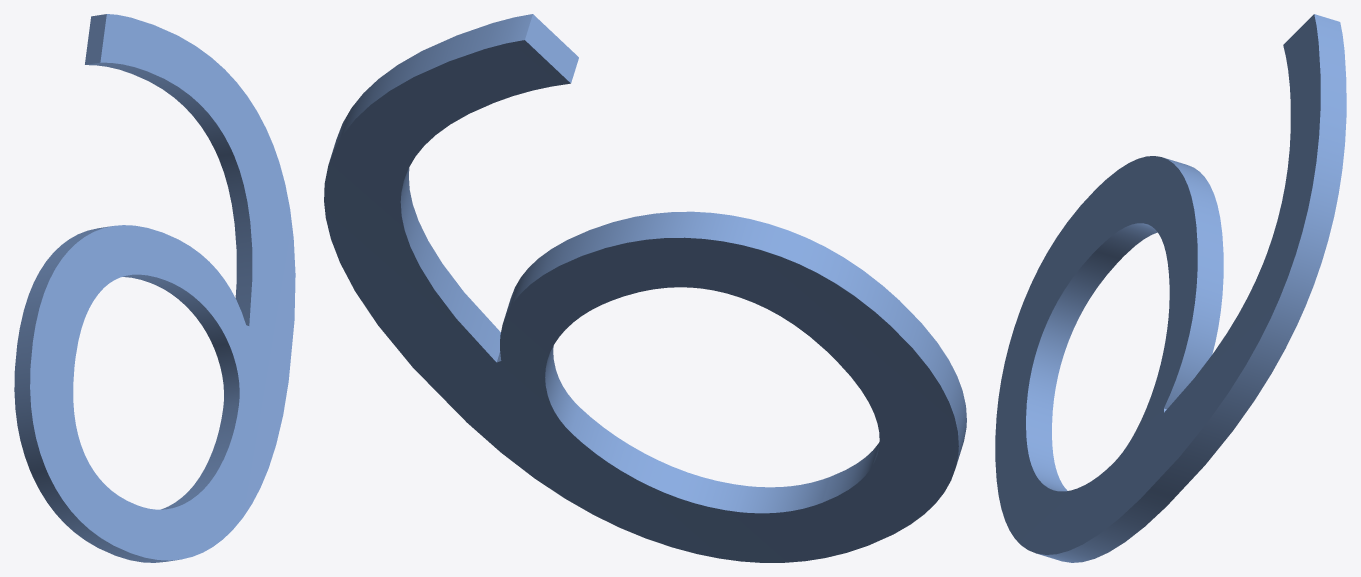
The model's file is New_Number_6.gltf.
The picture shows the model from 3 angles, left to right: view 1: azimuth 30°, elevation 25°; view 2: azimuth 150°, elevation 25°; view 3: azimuth 270°, elevation 25°; orthographic projection. The views are drawn at different scales.
Visible parts, largest first — view 1: Part 537; view 2: Part 537; view 3: Part 537.
Part boxes in pixels (x1,y1,x2,y2): Part 537: (14, 14, 295, 562); Part 537: (324, 14, 966, 562); Part 537: (995, 14, 1346, 562).
Bounding box in the file's own units: 0.00419 × 0.00525 × 0.00303.
